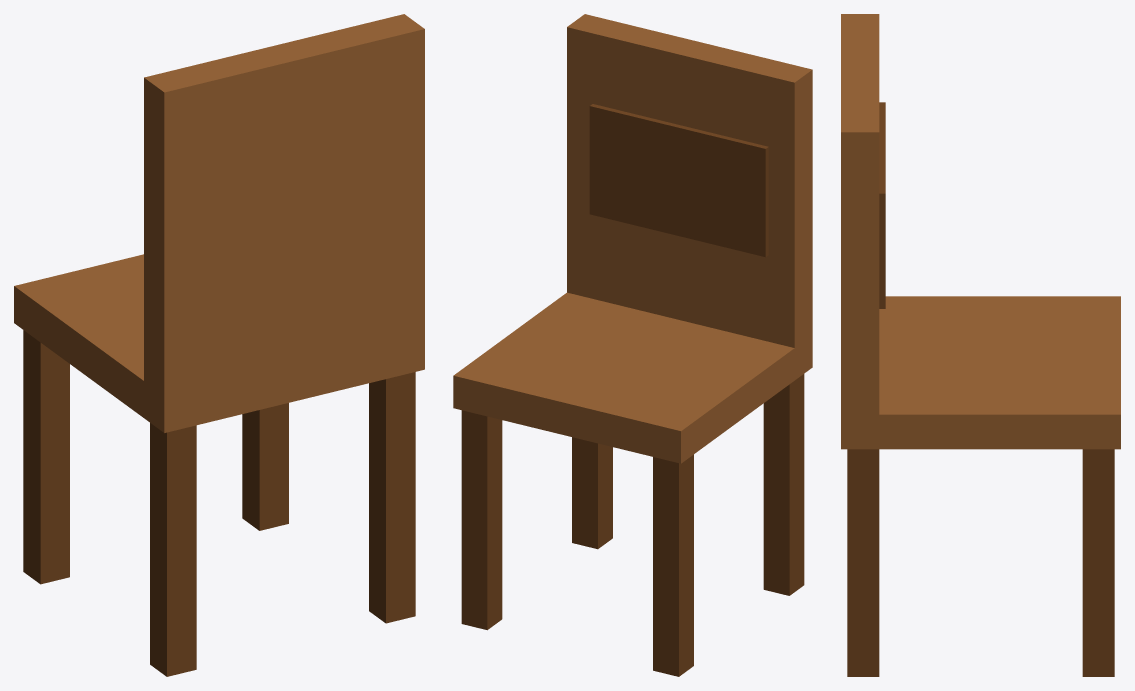
File: th-chair.glb
3 views of the same model, side by side, from view 1: azimuth 30°, elevation 25°; view 2: azimuth 150°, elevation 25°; view 3: azimuth 270°, elevation 25° (orthographic). The views are drawn at different scales.
Parts seen in each view (by area): view 1: box-prop; view 2: box-prop; view 3: box-prop.
Boxes of the visible parts, left/top/right/bottom form: box-prop: left=14, top=14, right=424, bottom=676; box-prop: left=453, top=14, right=812, bottom=676; box-prop: left=841, top=14, right=1120, bottom=676.
Bounding box in the file's own units: 0.44 × 0.95 × 0.44.
